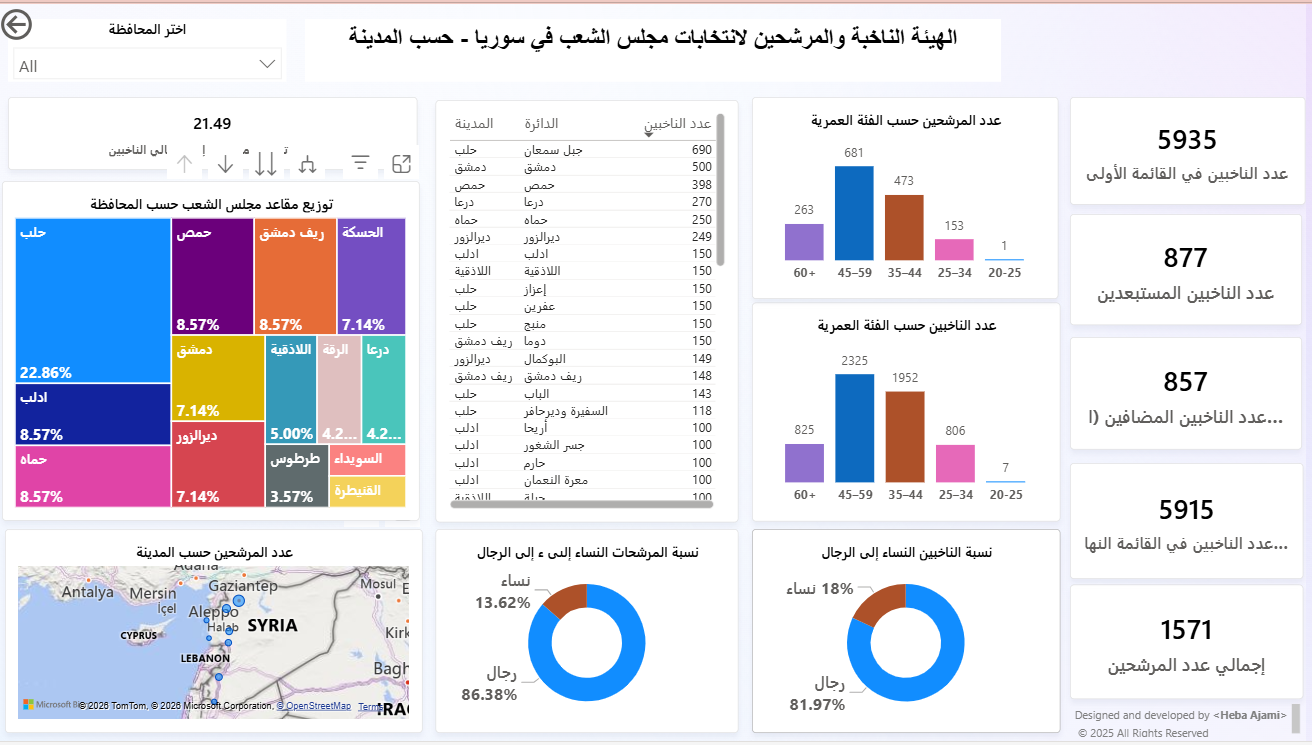

Layout of this report page (visuals, bound fields, positions):
{"tool":"powerbi","page":{"name":"Page 1","canvas":[1280,720],"ordinal":0},"visuals":[{"type":"card","title":"إجمالي عدد الناخبين","fields":{"Values":["Sum(Sheet1.in_first)"]},"box":[1049.3,90.7,229.9,105.2],"z":0},{"type":"textbox","box":[301.2,14.6,680.1,61.5],"z":1000},{"type":"slicer","title":"اختر المحافظة","fields":{"Values":["Sheet1.city","Sheet1.district"]},"box":[11.3,14.6,272,61.5],"z":2000},{"type":"card","fields":{"Values":["Sheet1.Total Candidates"]},"box":[1049.3,566.7,228.3,111.7],"z":3000},{"type":"card","fields":{"Values":["Sheet1.Removed from Final"]},"box":[1049.3,205.6,226.7,108.5],"z":4000},{"type":"clusteredColumnChart","title":"عدد الناخبين حسب الفئة العمرية","fields":{"Category":["Sheet1.Age Group"],"Y":["Sum(Sheet1.in_final)"]},"box":[738.4,291.5,301.2,213.7],"z":5000},{"type":"tableEx","fields":{"Values":["Sheet1.city","Sheet1.district","Sum(Sheet1.in_final)"]},"box":[429.1,93.9,296.3,412.9],"z":6000},{"type":"donutChart","title":"نسبة الناخبين النساء إلى الرجال","fields":{"Category":["Sheet1.Column9"],"Y":["Sheet1.Total Voters"]},"box":[738.4,513.3,301.2,199.2],"z":7000},{"type":"map","title":"عدد المرشحين حسب المدينة","fields":{"Category":["Sheet1.city"],"Size":["Sheet1.Total Candidates"]},"box":[8.1,513.3,408,199.2],"z":8000},{"type":"card","fields":{"Values":["Sheet1.Added to Final"]},"box":[1049.3,325.5,226.7,110.1],"z":9000},{"type":"card","fields":{"Values":["Sheet1.Voters in Final List"]},"box":[1049.3,448.5,228.3,113.3],"z":10000},{"type":"clusteredColumnChart","title":"عدد المرشحين حسب الفئة العمرية","fields":{"Category":["Sheet1.Age Group"],"Y":["Sheet1.Total Candidates"]},"box":[738.4,90.7,299.6,197.5],"z":11000},{"type":"donutChart","title":"نسبة المرشحات النساء إلىى ء إلى الرجال","fields":{"Category":["Sheet1.Column9"],"Y":["Sheet1.Total Candidates"]},"box":[429.1,513.3,296.3,199.2],"z":12000},{"type":"card","fields":{"Values":["Sheet1.Candidate Representation %"]},"box":[11.3,90.7,399.9,71.2],"z":13000},{"type":"actionButton","box":[0,0,100,40],"z":14000},{"type":"textbox","box":[1049.3,678.5,229.9,42.1],"z":15000},{"type":"treemap","title":"توزيع مقاعد مجلس الشعب حسب المحافظة","fields":{"Group":["ورقة1.المدينة","ورقة1.الدائرة الانتخابية"],"Values":["Sum(ورقة1.عدد المقاعد )"]},"box":[6.5,173.3,408,331.9],"z":16000}]}

Visuals, with their boxes in screenshot pixels (x1, y1, x2, y2), scaled from the page's 1280x720 canvas onto the 1312x745 screenshot:
"إجمالي عدد الناخبين" card: {"x1": 1076, "y1": 94, "x2": 1311, "y2": 203}
textbox: {"x1": 309, "y1": 15, "x2": 1006, "y2": 79}
"اختر المحافظة" slicer: {"x1": 12, "y1": 15, "x2": 290, "y2": 79}
card - Sheet1.Total Candidates: {"x1": 1076, "y1": 586, "x2": 1310, "y2": 702}
card - Sheet1.Removed from Final: {"x1": 1076, "y1": 213, "x2": 1308, "y2": 325}
"عدد الناخبين حسب الفئة العمرية" clusteredColumnChart: {"x1": 757, "y1": 302, "x2": 1066, "y2": 523}
tableEx - Sheet1.city x Sheet1.district: {"x1": 440, "y1": 97, "x2": 744, "y2": 524}
"نسبة الناخبين النساء إلى الرجال" donutChart: {"x1": 757, "y1": 531, "x2": 1066, "y2": 737}
"عدد المرشحين حسب المدينة" map: {"x1": 8, "y1": 531, "x2": 427, "y2": 737}
card - Sheet1.Added to Final: {"x1": 1076, "y1": 337, "x2": 1308, "y2": 451}
card - Sheet1.Voters in Final List: {"x1": 1076, "y1": 464, "x2": 1310, "y2": 581}
"عدد المرشحين حسب الفئة العمرية" clusteredColumnChart: {"x1": 757, "y1": 94, "x2": 1064, "y2": 298}
"نسبة المرشحات النساء إلىى ء إلى الرجال" donutChart: {"x1": 440, "y1": 531, "x2": 744, "y2": 737}
card - Sheet1.Candidate Representation %: {"x1": 12, "y1": 94, "x2": 421, "y2": 168}
actionButton: {"x1": 0, "y1": 0, "x2": 102, "y2": 41}
textbox: {"x1": 1076, "y1": 702, "x2": 1311, "y2": 744}
"توزيع مقاعد مجلس الشعب حسب المحافظة" treemap: {"x1": 7, "y1": 179, "x2": 425, "y2": 523}
